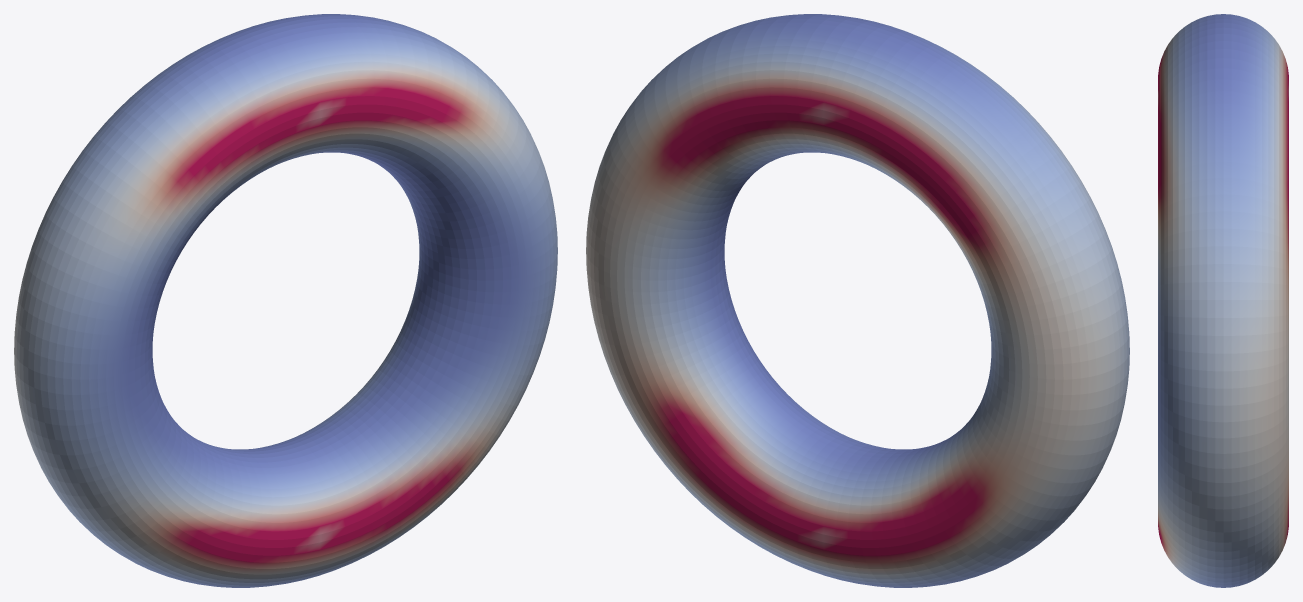
3 renders of one model, left to right at view 1: azimuth 30°, elevation 25°; view 2: azimuth 150°, elevation 25°; view 3: azimuth 270°, elevation 25°, orthographic. The views are drawn at different scales.
Visible parts, largest first — view 1: world; view 2: world; view 3: world.
Part boxes in pixels (left/top/right/bottom): world: left=14, top=14, right=557, bottom=587; world: left=586, top=14, right=1129, bottom=587; world: left=1158, top=14, right=1288, bottom=587.
Size of the model in its own units: 21.6 by 21.6 by 4.92.
